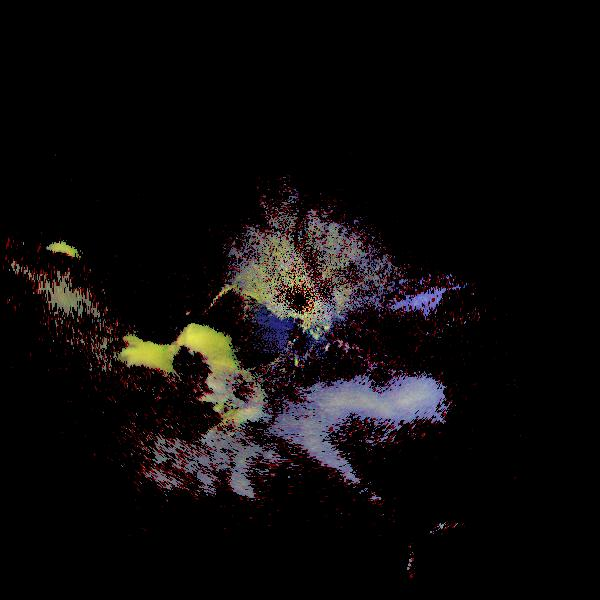roost: (129, 301, 258, 430), (67, 313, 190, 436), (162, 339, 282, 459), (7, 227, 103, 323)
